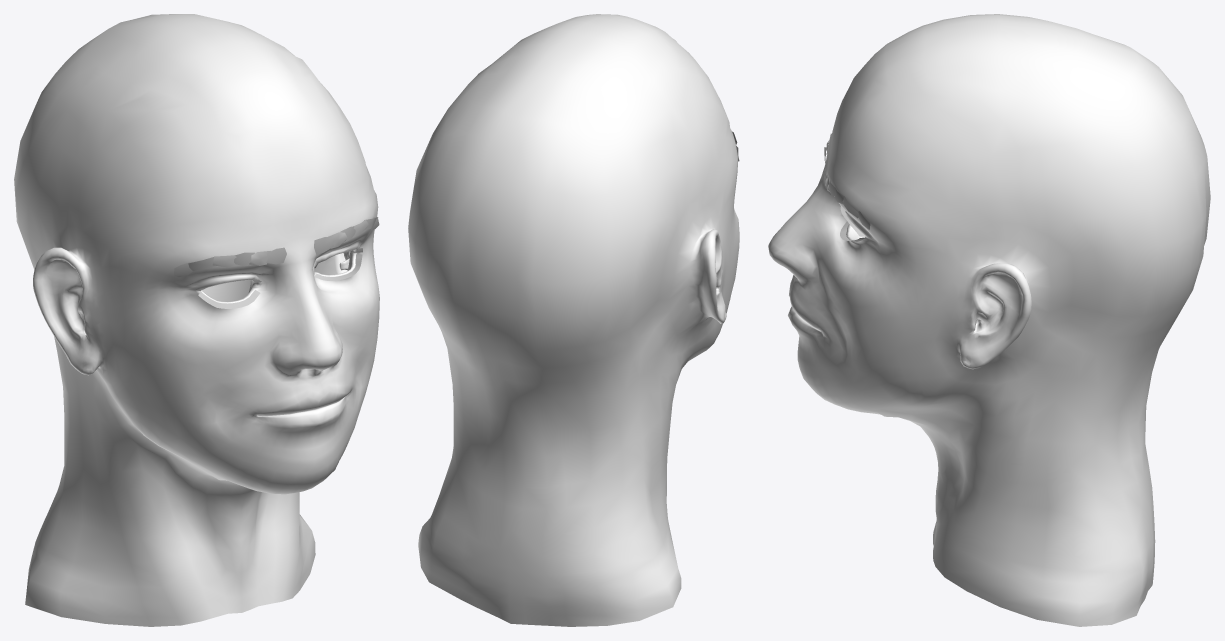
The model's file is eyeLookInLeft.obj.
The picture shows the model from 3 angles, left to right: view 1: azimuth 30°, elevation 25°; view 2: azimuth 150°, elevation 25°; view 3: azimuth 270°, elevation 25°; orthographic projection. The views are drawn at different scales.
Parts seen in each view (by area): view 1: FaceMesh_Plane.003; view 2: FaceMesh_Plane.003; view 3: FaceMesh_Plane.003.
Part boxes in pixels (bbox=[...]): FaceMesh_Plane.003: bbox=[14, 14, 379, 626]; FaceMesh_Plane.003: bbox=[408, 14, 739, 626]; FaceMesh_Plane.003: bbox=[768, 14, 1210, 626].
Size of the model in its own units: 1.54 by 2.71 by 1.94.
Materials: 5 (1 with a texture image).
